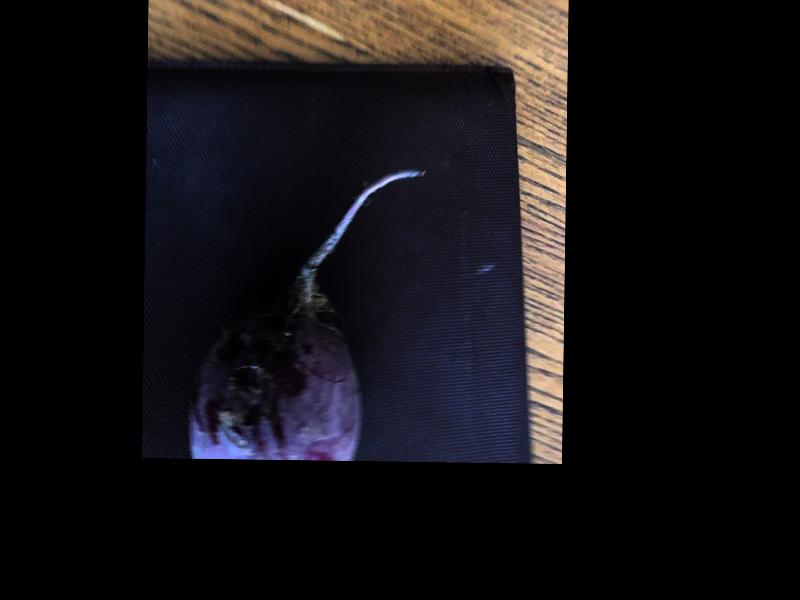Beet: (188, 166, 423, 459)
